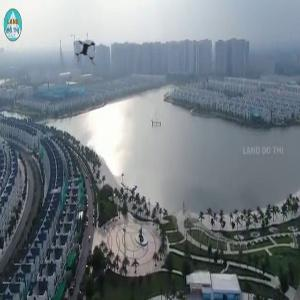drone: (59, 25, 112, 78)
